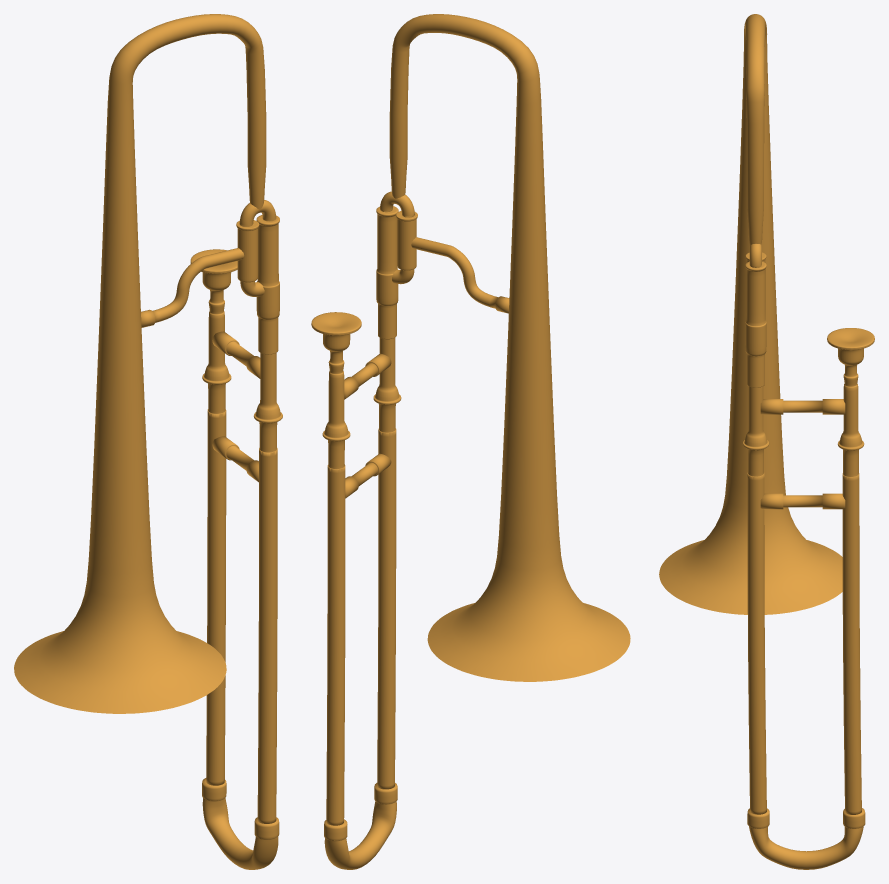
The model's file is trombone.glb.
The picture shows the model from 3 angles, left to right: view 1: azimuth 30°, elevation 25°; view 2: azimuth 150°, elevation 25°; view 3: azimuth 270°, elevation 25°; orthographic projection. The views are drawn at different scales.
Parts seen in each view (by area): view 1: BezierCurve_BezierCurve.001, Cylinder.001_Cylinder.003, Cylinder.002_Cylinder.007, Cylinder_Cylinder.004, Cylinder.005_Cylinder.010, Cylinder.006_Cylinder, Cylinder.003_Cylinder.008, Cylinder.004_Cylinder.009, BezierCurve.002; view 2: BezierCurve_BezierCurve.001, Cylinder.001_Cylinder.003, Cylinder.002_Cylinder.007, Cylinder_Cylinder.004, Cylinder.005_Cylinder.010, Cylinder.006_Cylinder, Cylinder.003_Cylinder.008, Cylinder.004_Cylinder.009; view 3: BezierCurve_BezierCurve.001, Cylinder.001_Cylinder.003, Cylinder.002_Cylinder.007, Cylinder_Cylinder.004, Cylinder.005_Cylinder.010, Cylinder.004_Cylinder.009, Cylinder.003_Cylinder.008.
Boxes of the visible parts, bbox=[...] form: BezierCurve_BezierCurve.001: bbox=[14, 14, 266, 713]; Cylinder.001_Cylinder.003: bbox=[190, 249, 237, 785]; Cylinder.002_Cylinder.007: bbox=[253, 353, 282, 823]; Cylinder_Cylinder.004: bbox=[202, 778, 279, 869]; Cylinder.005_Cylinder.010: bbox=[256, 215, 279, 354]; Cylinder.006_Cylinder: bbox=[236, 220, 259, 282]; Cylinder.003_Cylinder.008: bbox=[212, 331, 260, 378]; Cylinder.004_Cylinder.009: bbox=[212, 436, 258, 482]; BezierCurve.002: bbox=[239, 200, 276, 226]; BezierCurve_BezierCurve.001: bbox=[389, 14, 630, 681]; Cylinder.001_Cylinder.003: bbox=[311, 312, 361, 825]; Cylinder.002_Cylinder.007: bbox=[373, 338, 401, 789]; Cylinder_Cylinder.004: bbox=[324, 783, 397, 869]; Cylinder.005_Cylinder.010: bbox=[376, 206, 398, 339]; Cylinder.006_Cylinder: bbox=[396, 211, 417, 270]; Cylinder.003_Cylinder.008: bbox=[344, 353, 391, 399]; Cylinder.004_Cylinder.009: bbox=[345, 453, 391, 498]; BezierCurve_BezierCurve.001: bbox=[659, 14, 842, 614]; Cylinder.001_Cylinder.003: bbox=[827, 328, 874, 814]; Cylinder.002_Cylinder.007: bbox=[742, 386, 769, 814]; Cylinder_Cylinder.004: bbox=[747, 808, 865, 869]; Cylinder.005_Cylinder.010: bbox=[745, 261, 766, 387]; Cylinder.004_Cylinder.009: bbox=[760, 493, 845, 509]; Cylinder.003_Cylinder.008: bbox=[760, 399, 845, 414].
Size of the model in its own units: 0.2445 by 0.7849 by 0.1908.
